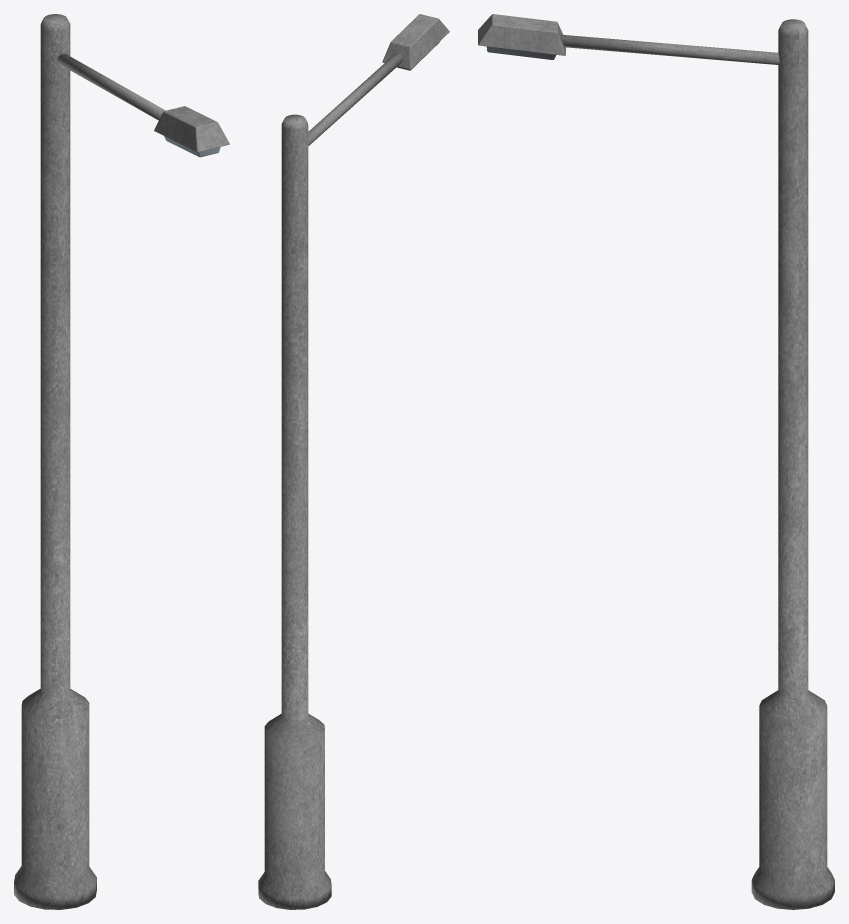
The model's file is Lamp Post.fbx.
3 views of the same model, side by side, from view 1: azimuth 30°, elevation 25°; view 2: azimuth 150°, elevation 25°; view 3: azimuth 270°, elevation 25° (orthographic). The views are drawn at different scales.
Visible parts, largest first — view 1: Lamp Post Base, Lamp Post Lamp, Lamp Post Arm; view 2: Lamp Post Base, Lamp Post Lamp, Lamp Post Arm; view 3: Lamp Post Base, Lamp Post Lamp, Lamp Post Arm.
Part boxes in pixels (<box>): Lamp Post Base: <box>14,14,96,909</box>; Lamp Post Lamp: <box>154,106,229,157</box>; Lamp Post Arm: <box>57,53,165,120</box>; Lamp Post Base: <box>258,114,331,909</box>; Lamp Post Lamp: <box>382,14,449,70</box>; Lamp Post Arm: <box>308,53,402,145</box>; Lamp Post Base: <box>751,19,834,909</box>; Lamp Post Lamp: <box>478,14,565,59</box>; Lamp Post Arm: <box>561,34,779,64</box>.
Size of the model in its own units: 72.7 by 843 by 312.
